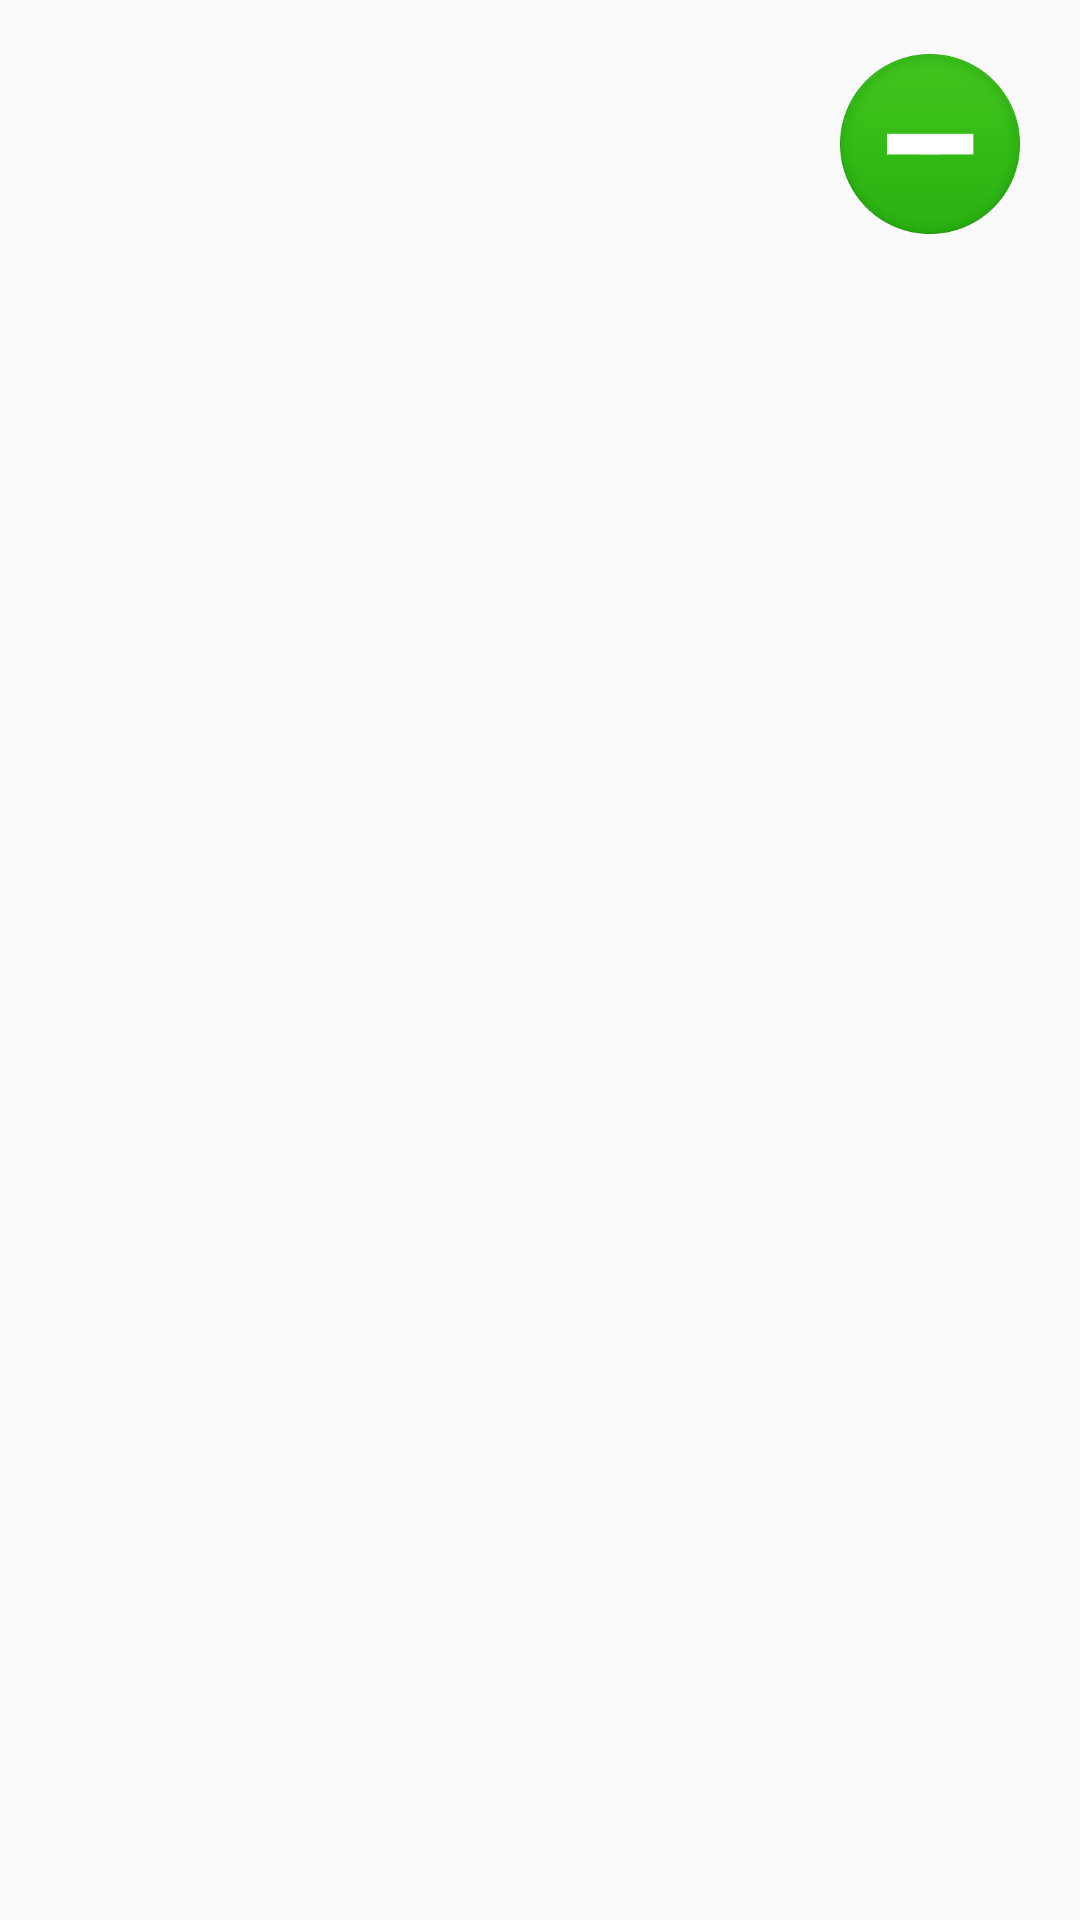

Named icons in this screenshot (1080 x 1920) and their bounding boxes, (left=x1, top=y1, right=x2, bottom=y2):
minus: (left=840, top=54, right=1020, bottom=234)
